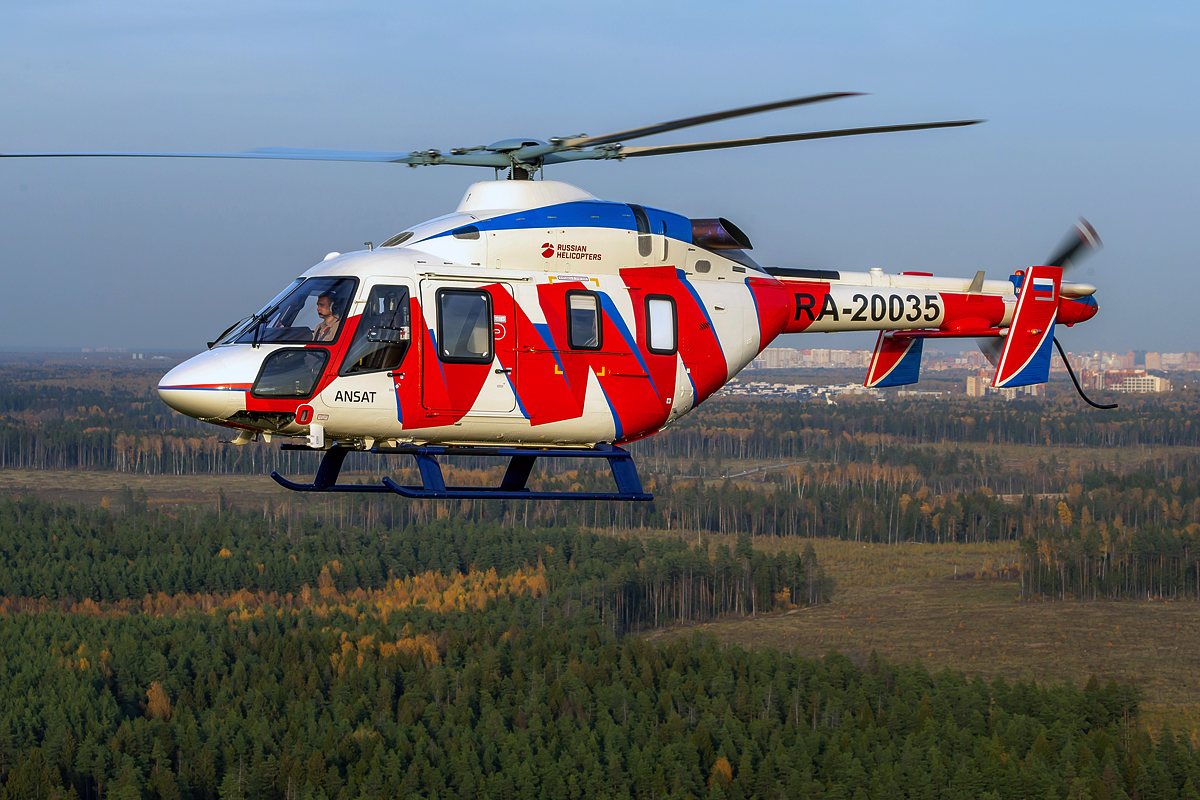number: (793, 284, 942, 326)
